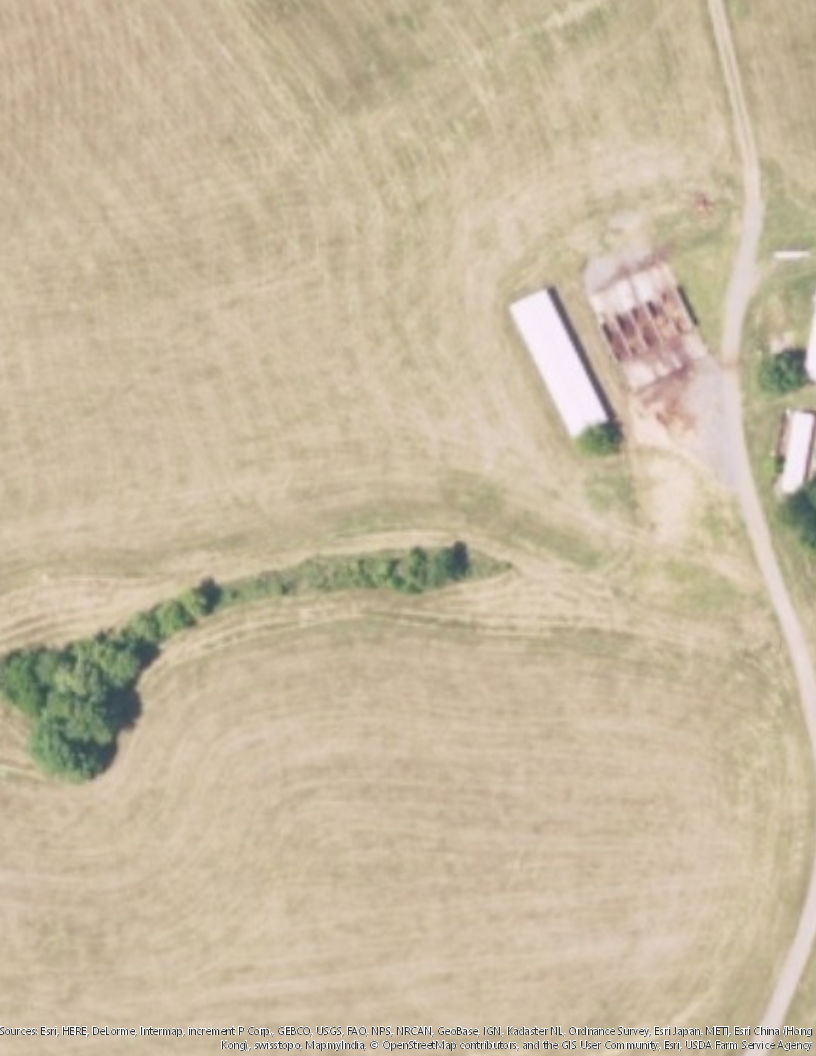cafo: (506, 286, 615, 448)
